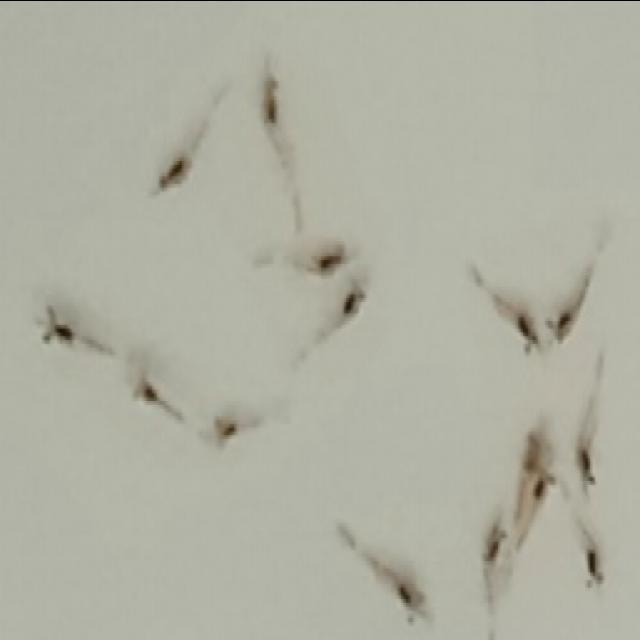shrimp-seed: (385, 572, 431, 630), (476, 503, 511, 579), (36, 294, 80, 354), (150, 144, 198, 198), (332, 275, 375, 335), (308, 233, 351, 286), (250, 68, 286, 130), (577, 528, 606, 600), (203, 406, 243, 456), (570, 438, 602, 500), (530, 451, 562, 512), (123, 363, 160, 414), (544, 300, 582, 348), (513, 312, 544, 364), (512, 429, 540, 475)
